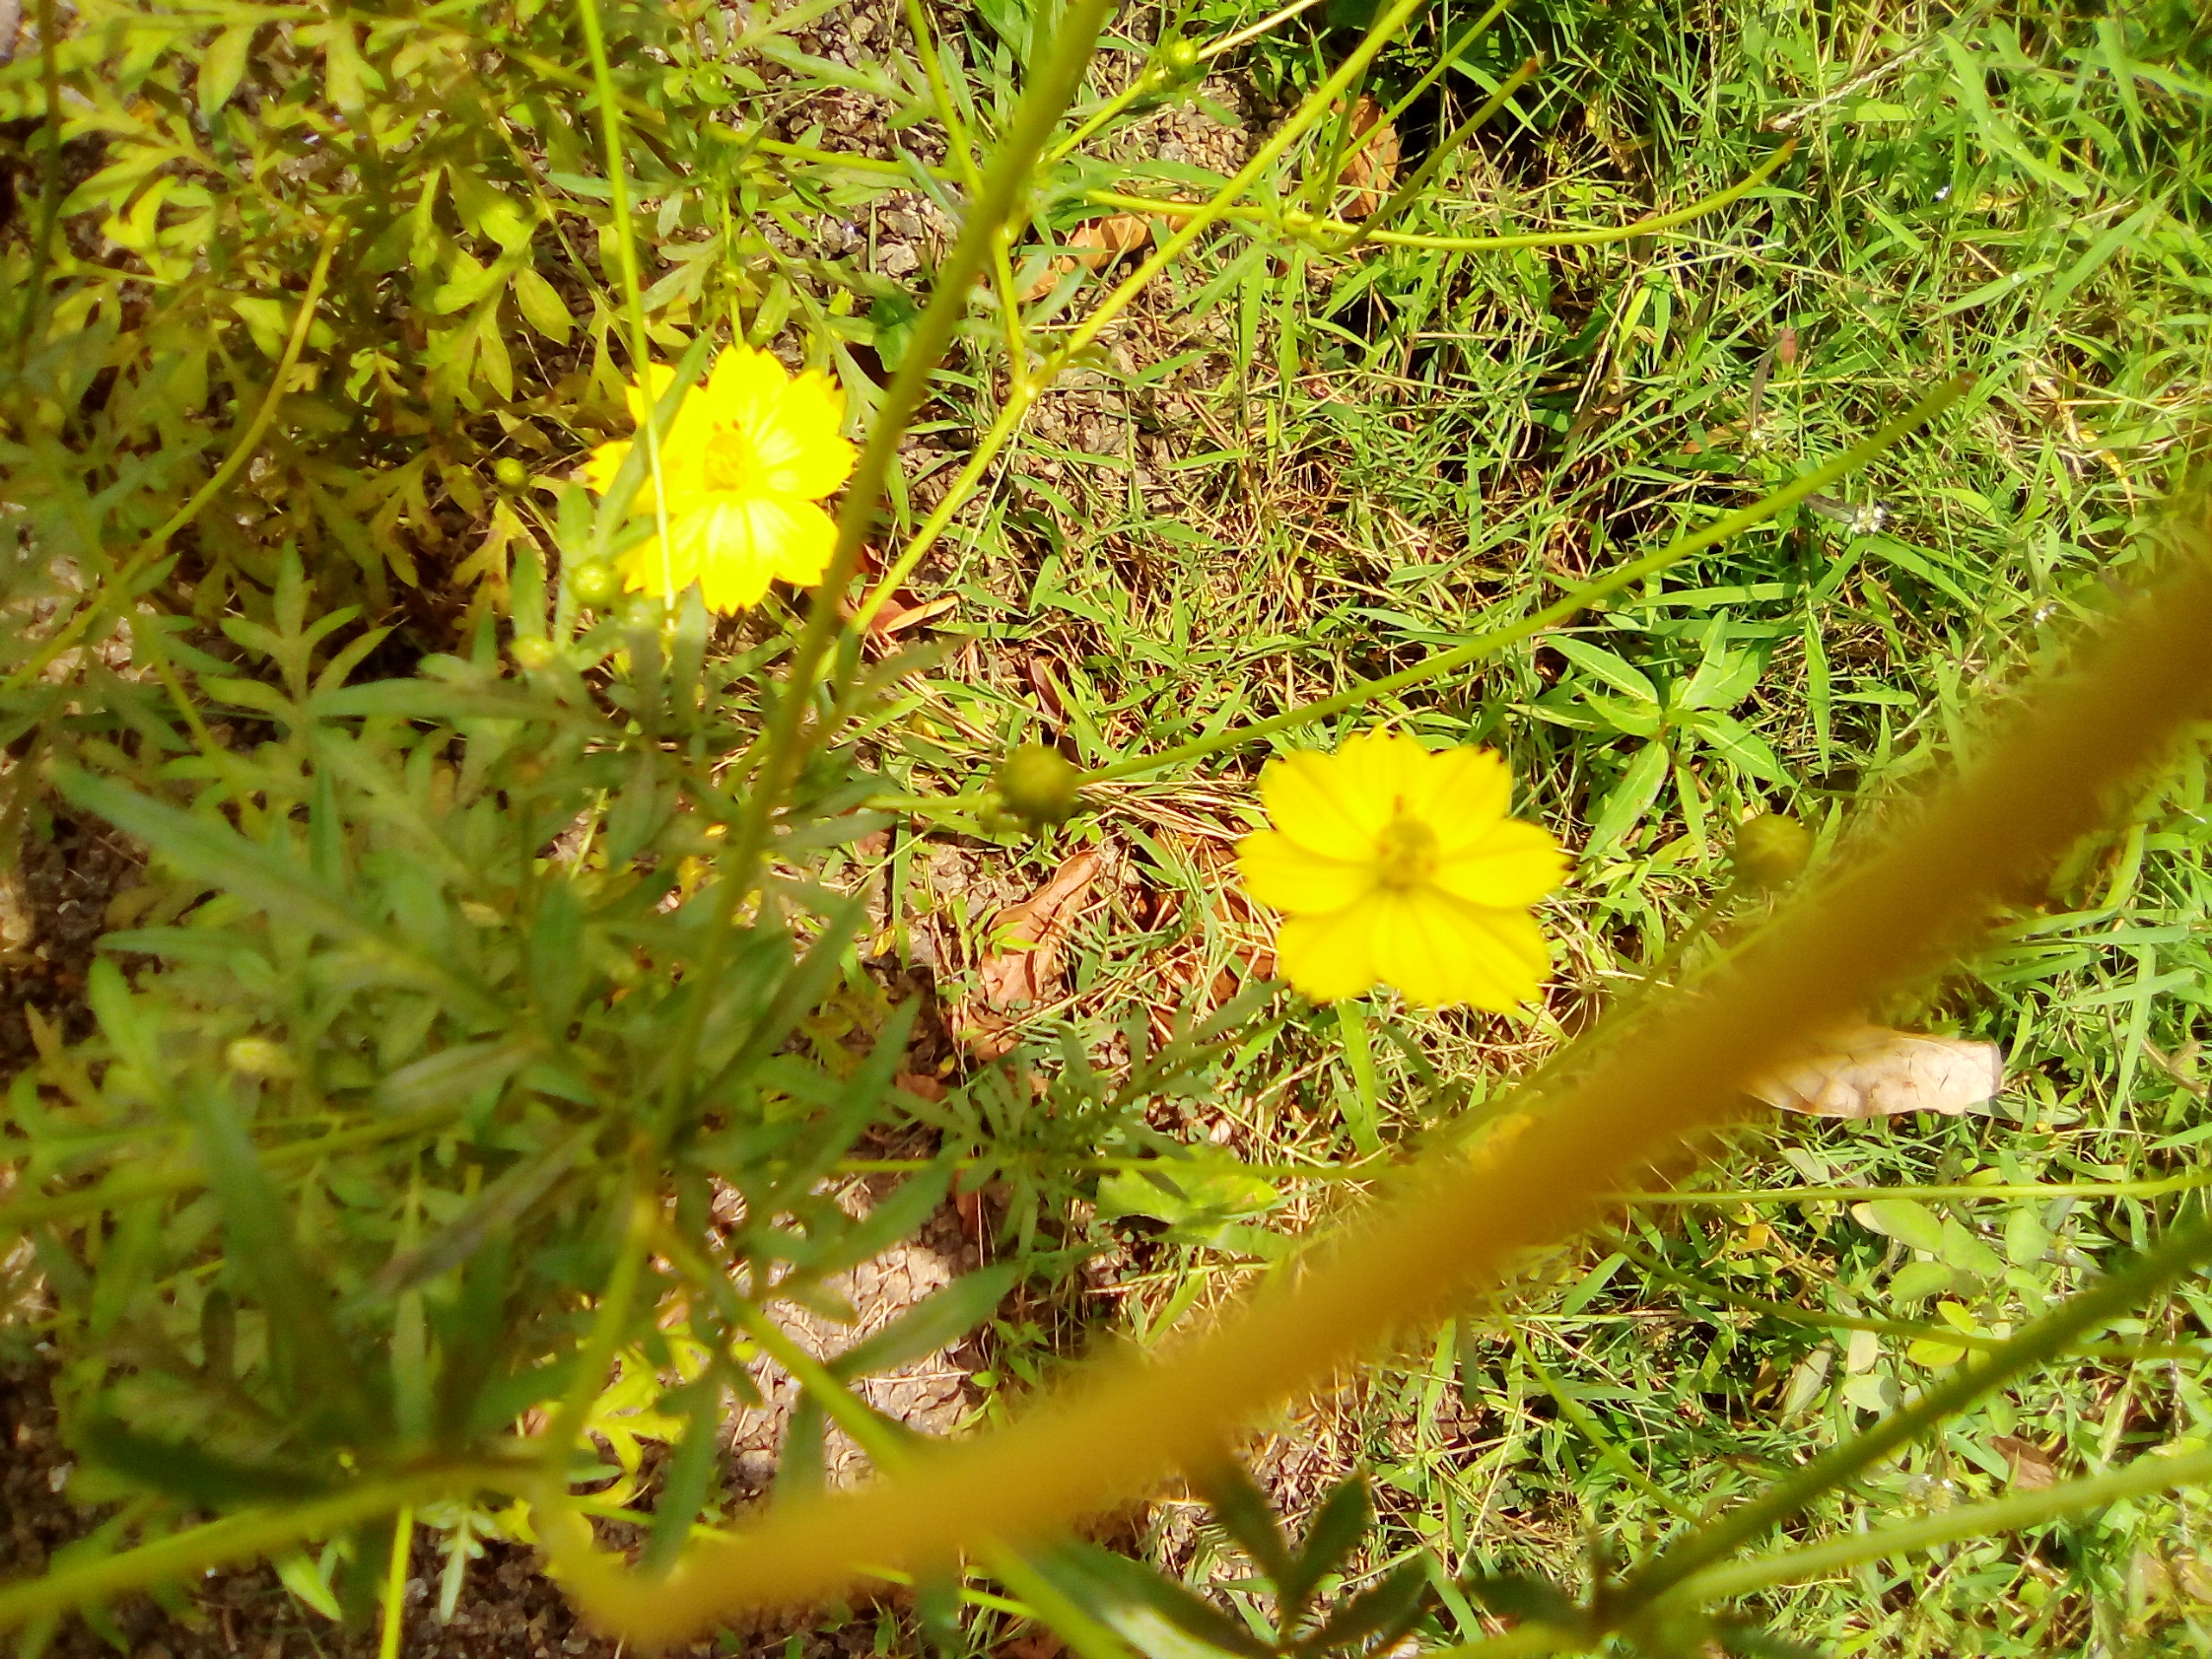kahamala: (1237, 737, 1595, 1018), (564, 352, 834, 603)
